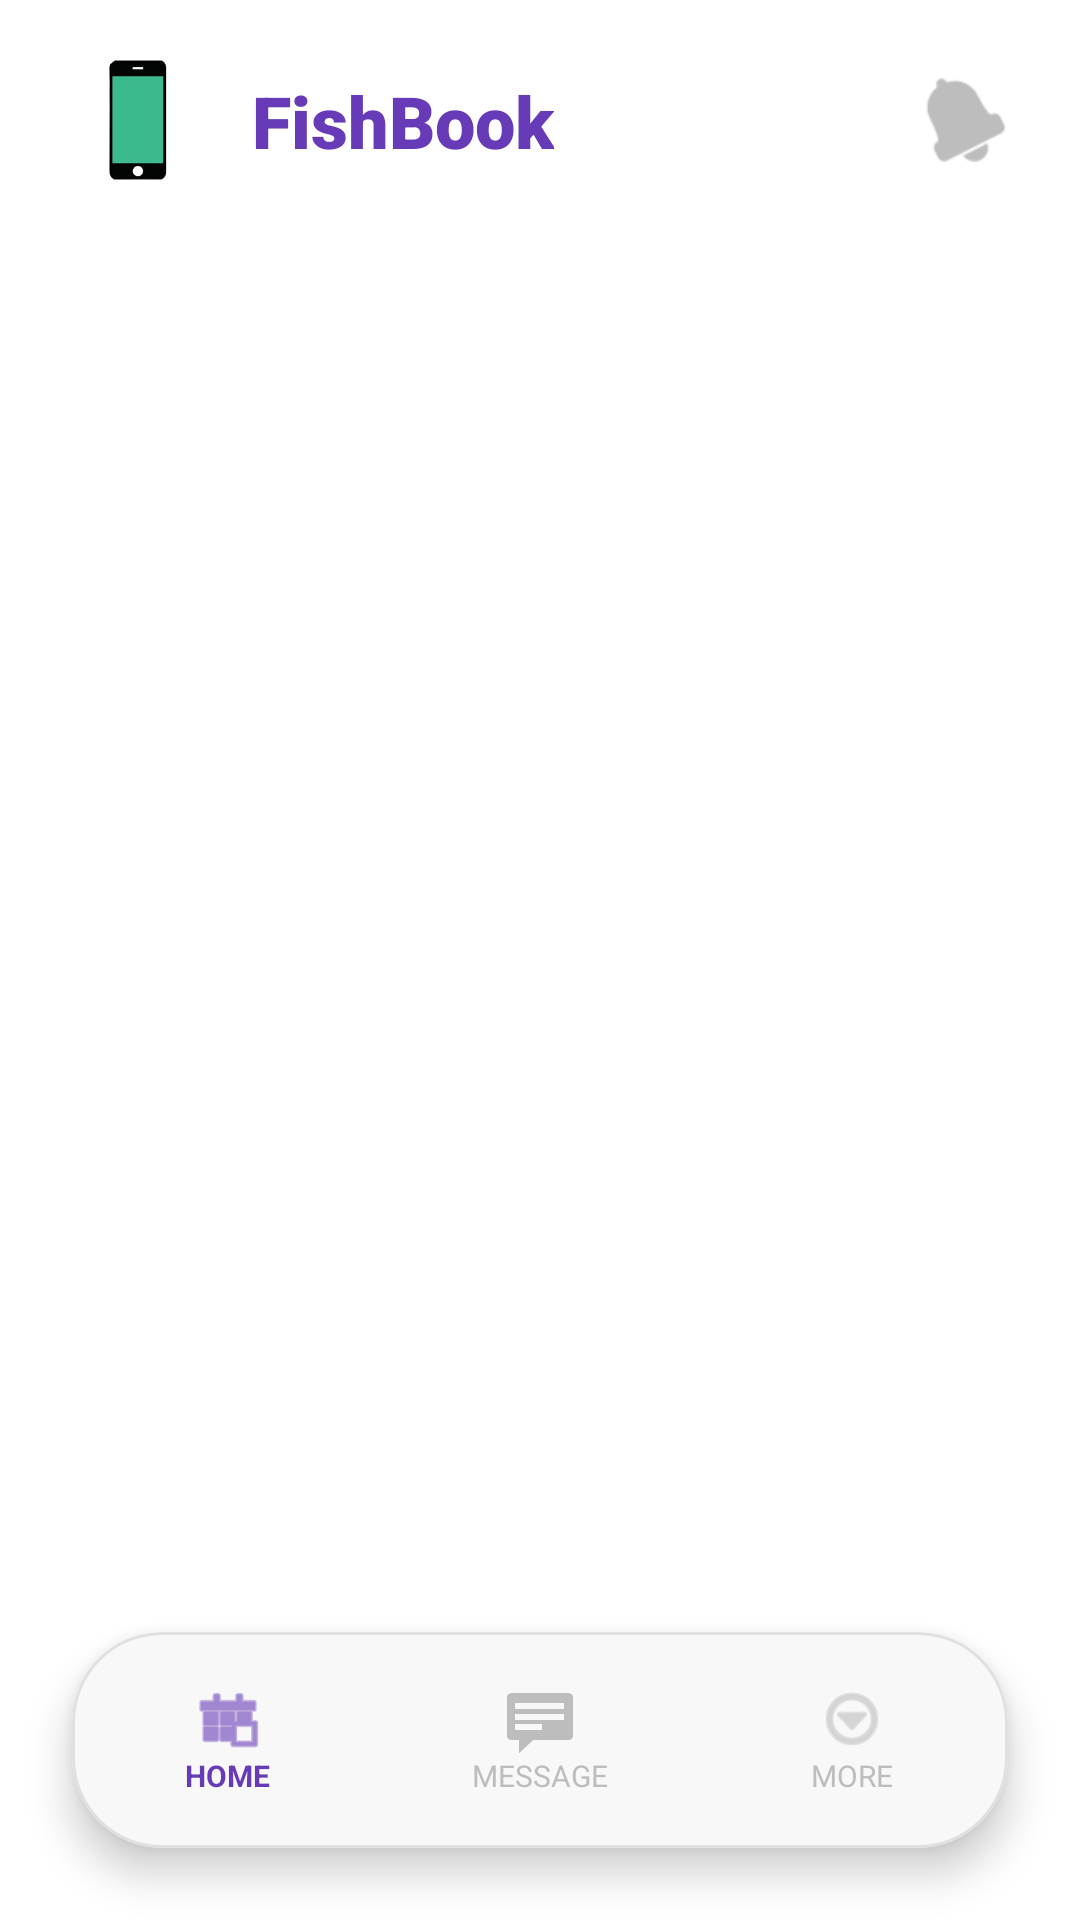

Screen size 1080px×1920px. Icon name, then its box in pixels as (x1, y1, x2, y2):
popup reminder: (927, 78, 1005, 162)
today: (199, 1693, 258, 1748)
